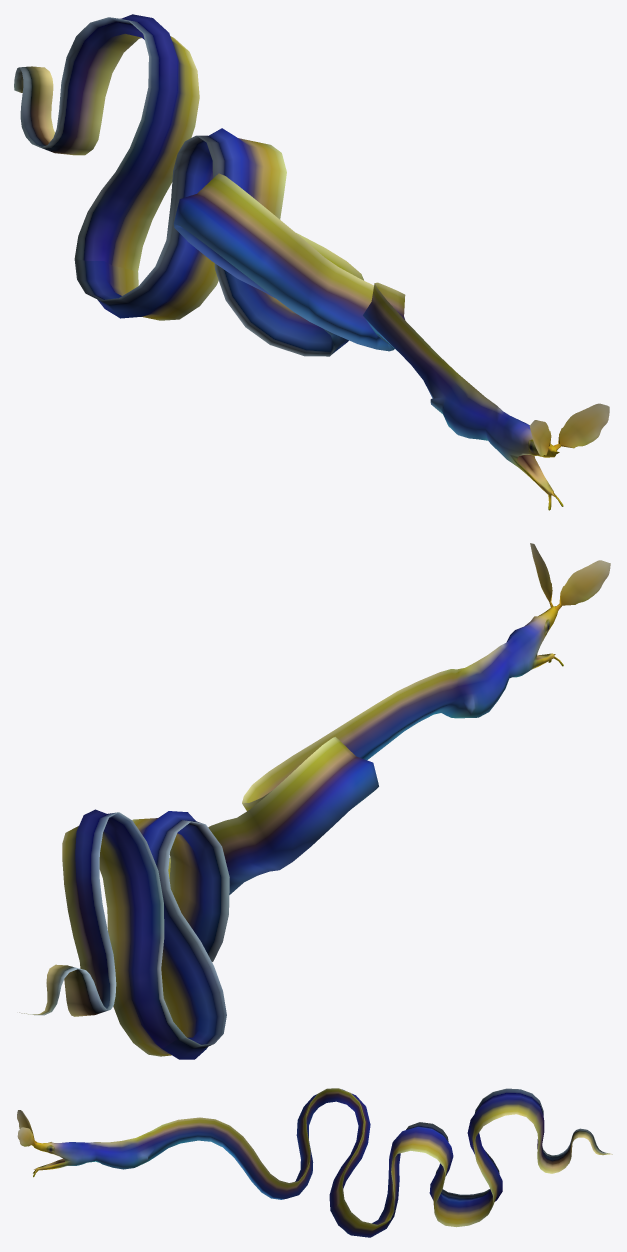
The model's file is ribbon-eel.glb.
3 renders of one model, top to bottom at view 1: azimuth 30°, elevation 25°; view 2: azimuth 150°, elevation 25°; view 3: azimuth 270°, elevation 25°, orthographic. The views are drawn at different scales.
Bounding box in the file's own units: 2.89 × 3.64 × 13.88.
Materials: 1 (1 with a texture image).
